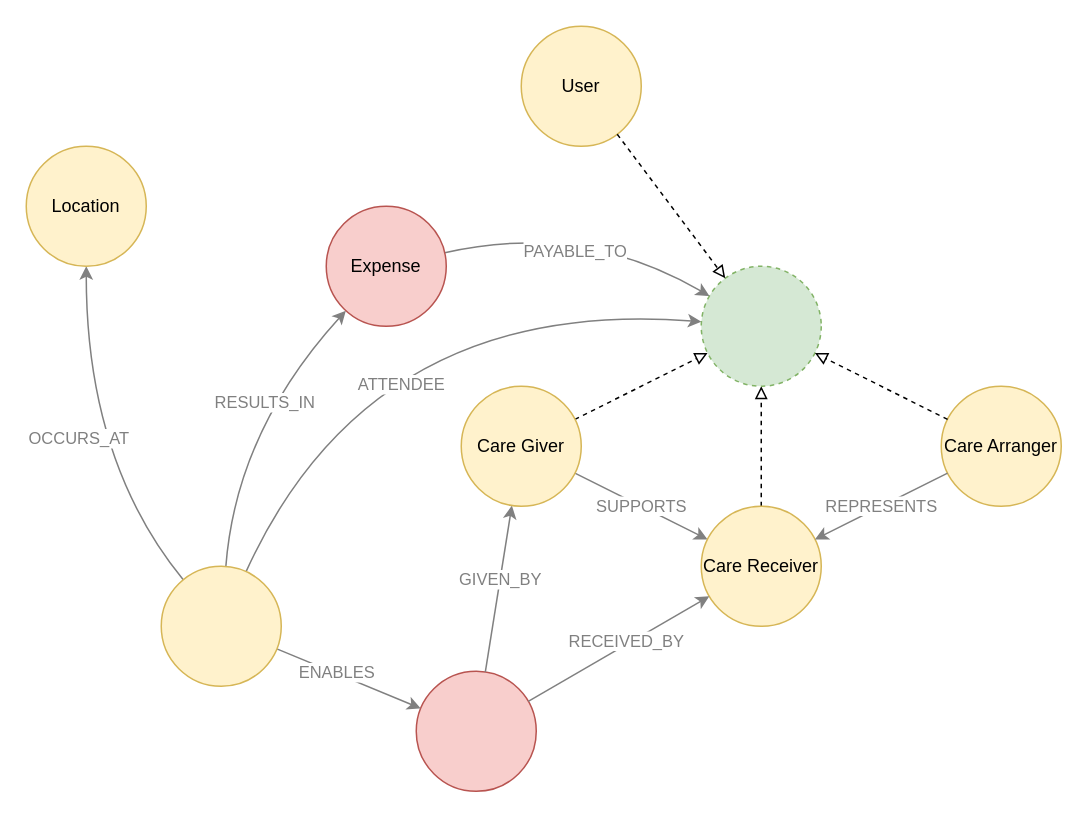
This 1088x818 diagram has some shape labels left out. Here are the shapes that lost their labels. From the top down, the box of each, then its label:
(700, 265, 821, 386): Person
(160, 565, 281, 686): Appointment
(415, 670, 536, 791): Value Exchange
